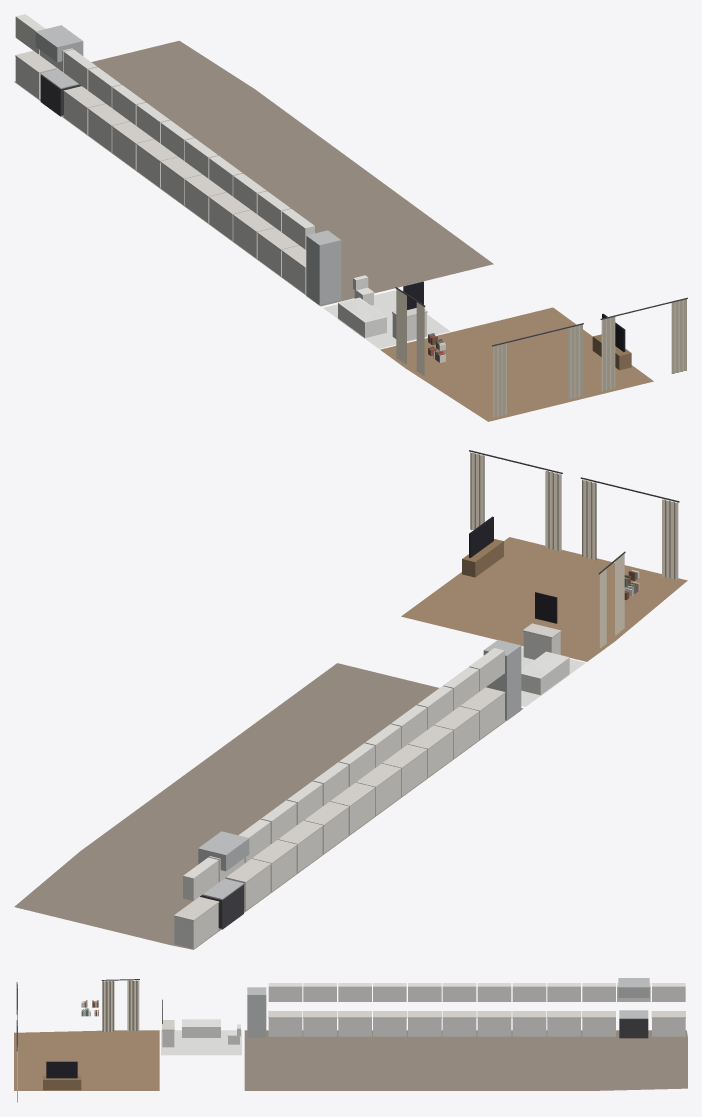
The model's file is fine-s1.glb.
3 renders of one model, top to bottom at view 1: azimuth 30°, elevation 25°; view 2: azimuth 150°, elevation 25°; view 3: azimuth 270°, elevation 25°, orthographic. The views are drawn at different scales.
Parts seen in each view (by area): view 1: soft-s1, fridge.000, range.000, bathtub.000, counter-run.000, counter-run.007, counter-run.006, counter-run.009, counter-run.008, counter-run.001, counter-run.004, counter-run.002 (+16 smaller); view 2: soft-s1, range.000, counter-run.000, vanity.000, fridge.000, tv-console.001, bathtub.000, counter-run.001, counter-run.003, counter-run.002, counter-run.004, counter-run.005 (+16 smaller); view 3: soft-s1, range.000, tv-console.001, fridge.000, counter-run.003, counter-run.004, counter-run.005, counter-run.010, counter-run.000, counter-run.002, counter-run.006, counter-run.009 (+16 smaller).
Boxes of the visible parts, x1=… form: soft-s1: x1=14, y1=40, x2=687, y2=421; fridge.000: x1=306, y1=230, x2=341, y2=305; range.000: x1=35, y1=25, x2=83, y2=116; bathtub.000: x1=338, y1=297, x2=386, y2=338; counter-run.000: x1=15, y1=50, x2=57, y2=99; counter-run.007: x1=208, y1=192, x2=250, y2=240; counter-run.006: x1=184, y1=174, x2=226, y2=223; counter-run.009: x1=257, y1=228, x2=299, y2=276; counter-run.008: x1=233, y1=210, x2=274, y2=258; counter-run.001: x1=63, y1=86, x2=105, y2=134; counter-run.004: x1=136, y1=139, x2=177, y2=187; counter-run.002: x1=87, y1=104, x2=129, y2=152; soft-s1: x1=14, y1=450, x2=687, y2=949; range.000: x1=198, y1=831, x2=249, y2=929; counter-run.000: x1=174, y1=897, x2=219, y2=948; vanity.000: x1=522, y1=592, x2=561, y2=659; fridge.000: x1=483, y1=640, x2=521, y2=720; tv-console.001: x1=462, y1=516, x2=503, y2=577; bathtub.000: x1=521, y1=651, x2=569, y2=695; counter-run.001: x1=226, y1=858, x2=271, y2=910; counter-run.003: x1=278, y1=820, x2=323, y2=872; counter-run.002: x1=252, y1=839, x2=297, y2=891; counter-run.004: x1=304, y1=801, x2=349, y2=853; counter-run.005: x1=330, y1=782, x2=375, y2=834; soft-s1: x1=14, y1=979, x2=687, y2=1102; range.000: x1=618, y1=978, x2=649, y2=1038; tv-console.001: x1=43, y1=1061, x2=81, y2=1090; fridge.000: x1=247, y1=987, x2=266, y2=1037; counter-run.003: x1=512, y1=1011, x2=546, y2=1036; counter-run.004: x1=477, y1=1011, x2=511, y2=1036; counter-run.005: x1=442, y1=1011, x2=476, y2=1036; counter-run.010: x1=268, y1=1011, x2=302, y2=1036; counter-run.000: x1=651, y1=1011, x2=685, y2=1036; counter-run.002: x1=547, y1=1011, x2=581, y2=1036; counter-run.006: x1=407, y1=1011, x2=441, y2=1036; counter-run.009: x1=303, y1=1011, x2=337, y2=1036.
Bounding box in the file's own units: 7.37 × 2.46 × 28.04.
